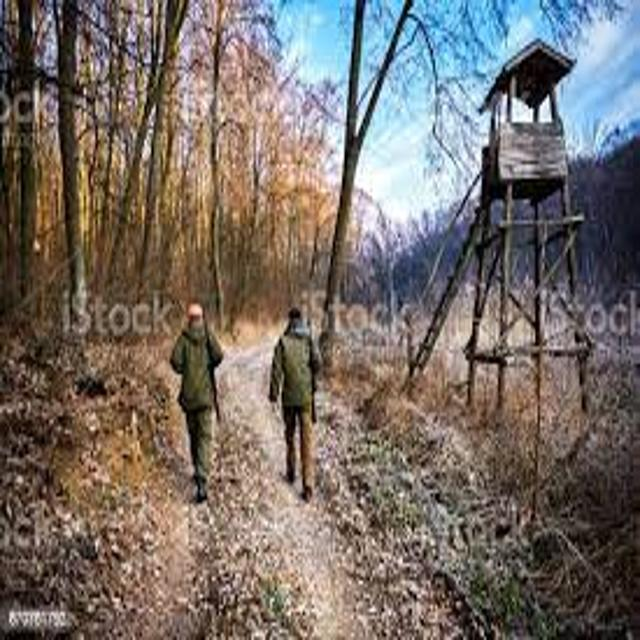poacher: (137, 283, 264, 520), (242, 284, 352, 520)
